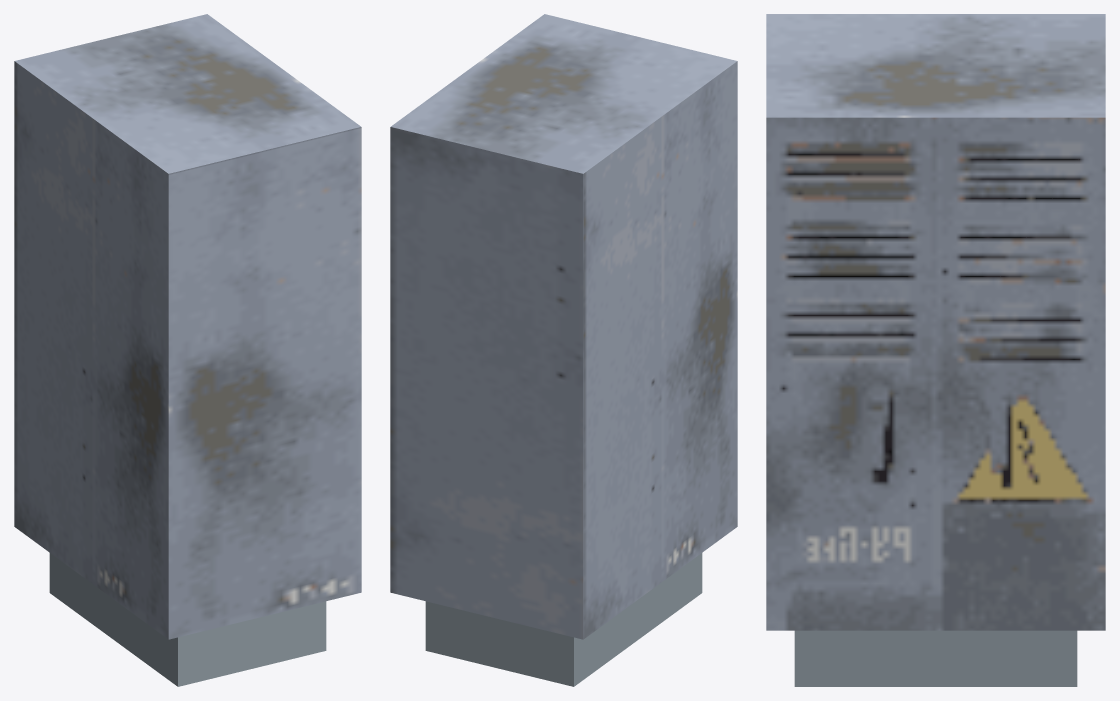
File: Transformer.obj
The picture shows the model from 3 angles, left to right: view 1: azimuth 30°, elevation 25°; view 2: azimuth 150°, elevation 25°; view 3: azimuth 270°, elevation 25°; orthographic projection. The views are drawn at different scales.
Visible parts, largest first — view 1: Transformer; view 2: Transformer; view 3: Transformer.
Part boxes in pixels (x1,y1,x2,y2): Transformer: (14, 14, 361, 686); Transformer: (390, 14, 737, 686); Transformer: (766, 14, 1105, 686).
Size of the model in its own units: 0.6398 by 1.67 by 0.8858.
Materials: 2 (1 with a texture image).
